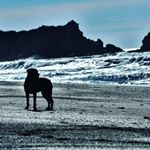puppy: (16, 66, 60, 116)
